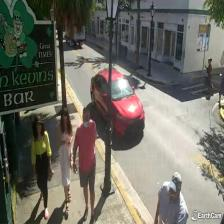person: (73, 106, 97, 224), (30, 115, 53, 217), (154, 170, 188, 224), (57, 108, 72, 214)
